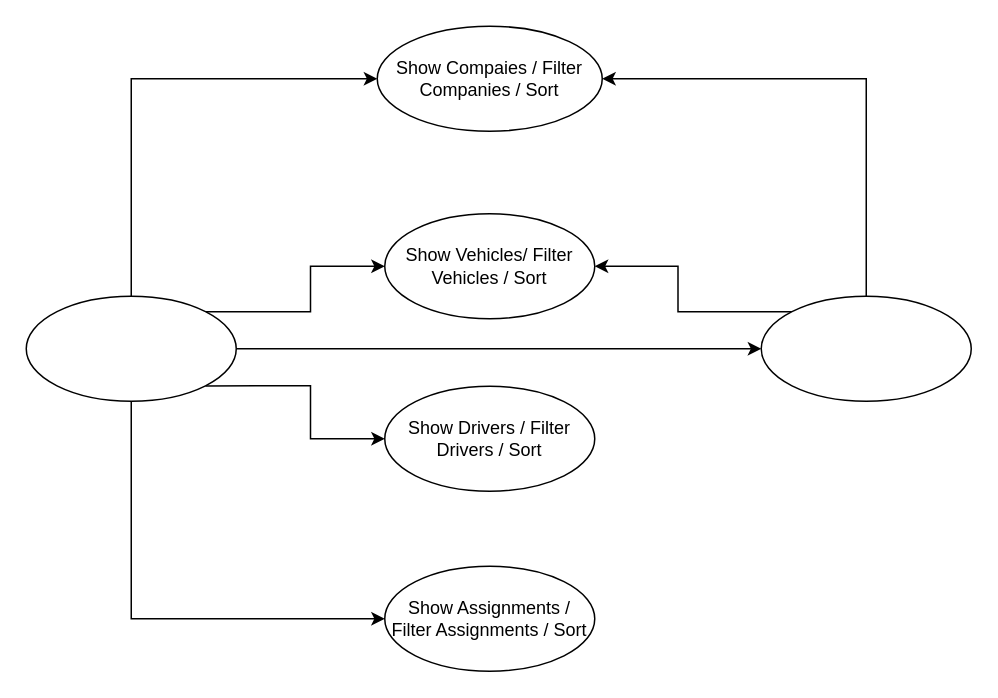
Some shapes in this 998 by 698 pixel diagram are drawn without their labels. The centre of each missing label's shape, as x and y in pixels:
"Add / Delete / Edit Data" belongs at pixel 130 348.
"Remind Maintenance" belongs at pixel 865 348.
